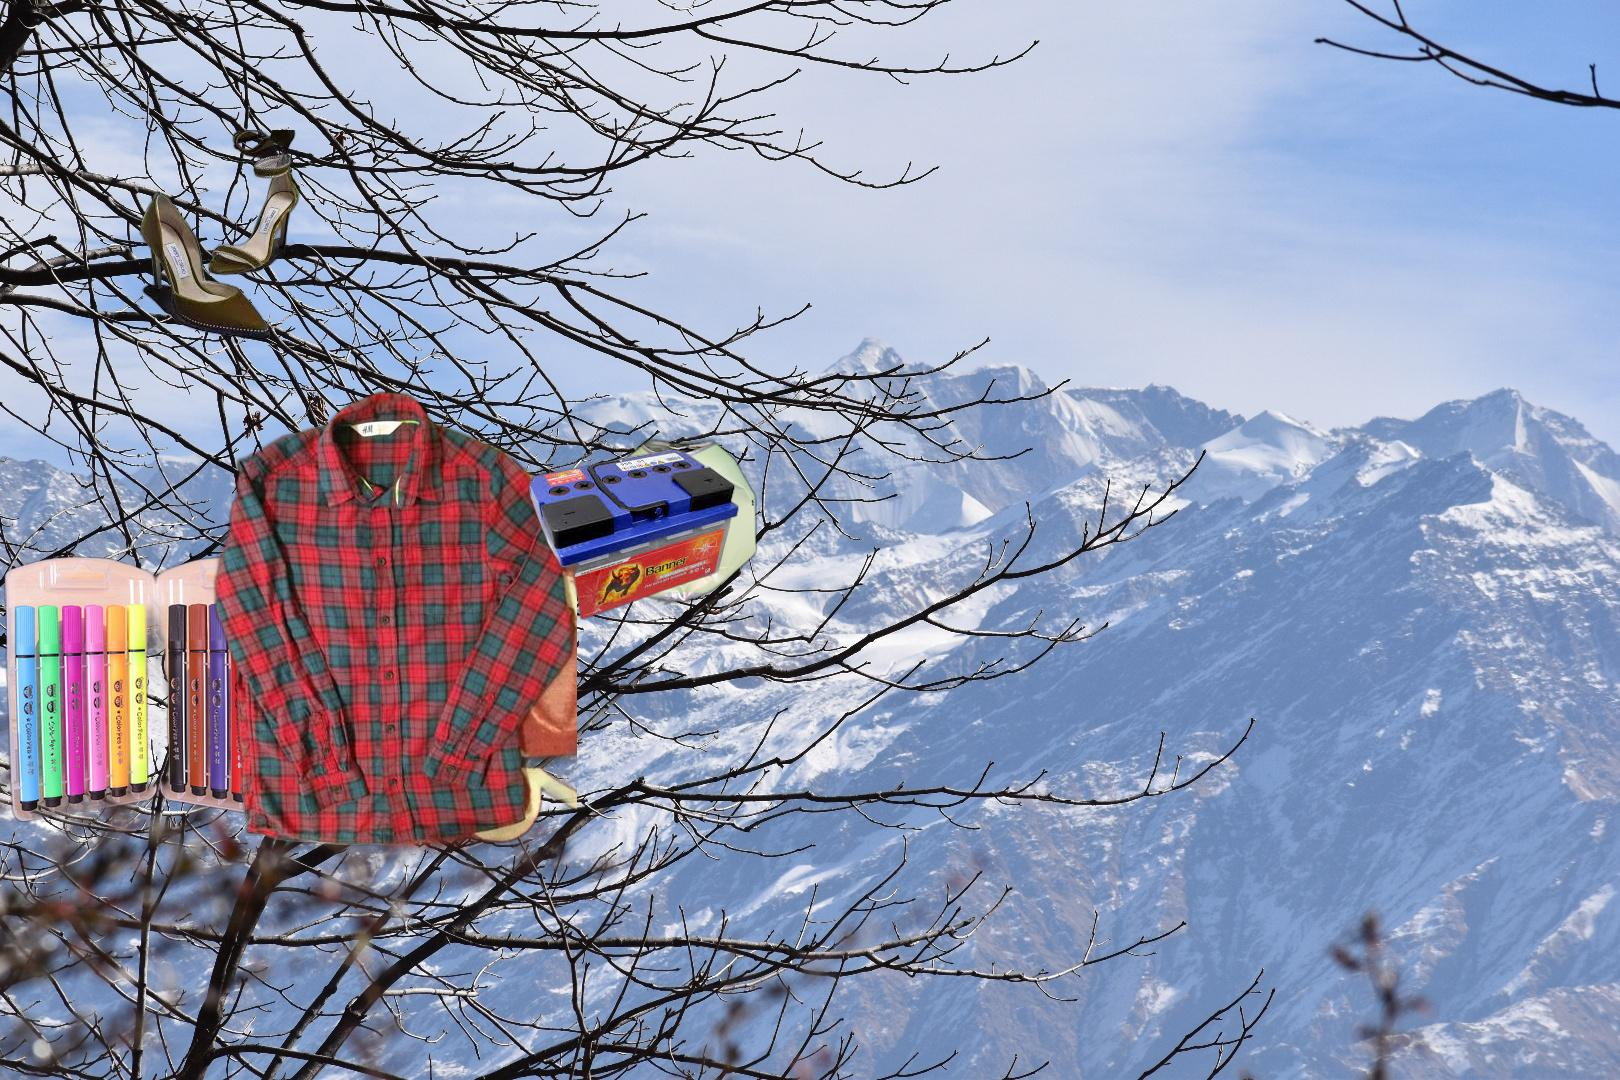battery: (526, 446, 741, 642)
clothes: (211, 388, 577, 867)
metal-cans: (595, 434, 761, 607)
penholder: (2, 554, 307, 824)
shoes: (137, 130, 303, 342)
